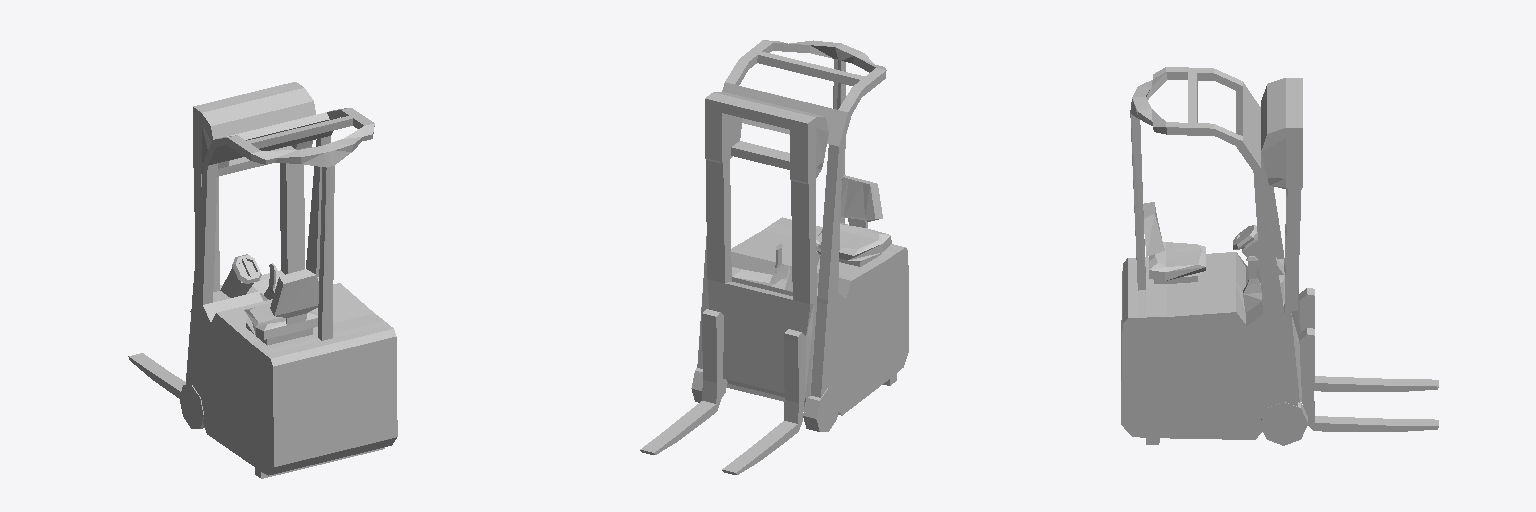
The model's file is forklift.obj.
3 views of the same model, side by side, from view 1: azimuth 30°, elevation 25°; view 2: azimuth 150°, elevation 25°; view 3: azimuth 270°, elevation 25° (orthographic).
Visible parts, largest first — view 1: forklift; view 2: forklift; view 3: forklift.
Boxes of the visible parts, <box> form: forklift: <box>128,82,397,478</box>; forklift: <box>640,40,908,474</box>; forklift: <box>1121,67,1438,445</box>.
Size of the model in its own units: 0.9349 by 2.28 by 2.07.